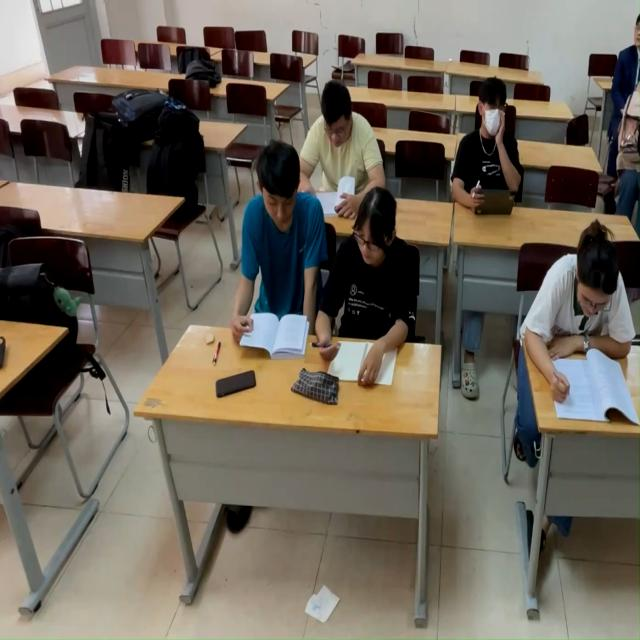read: (520, 214, 640, 422), (309, 186, 425, 389), (237, 140, 318, 361), (449, 70, 528, 226)
